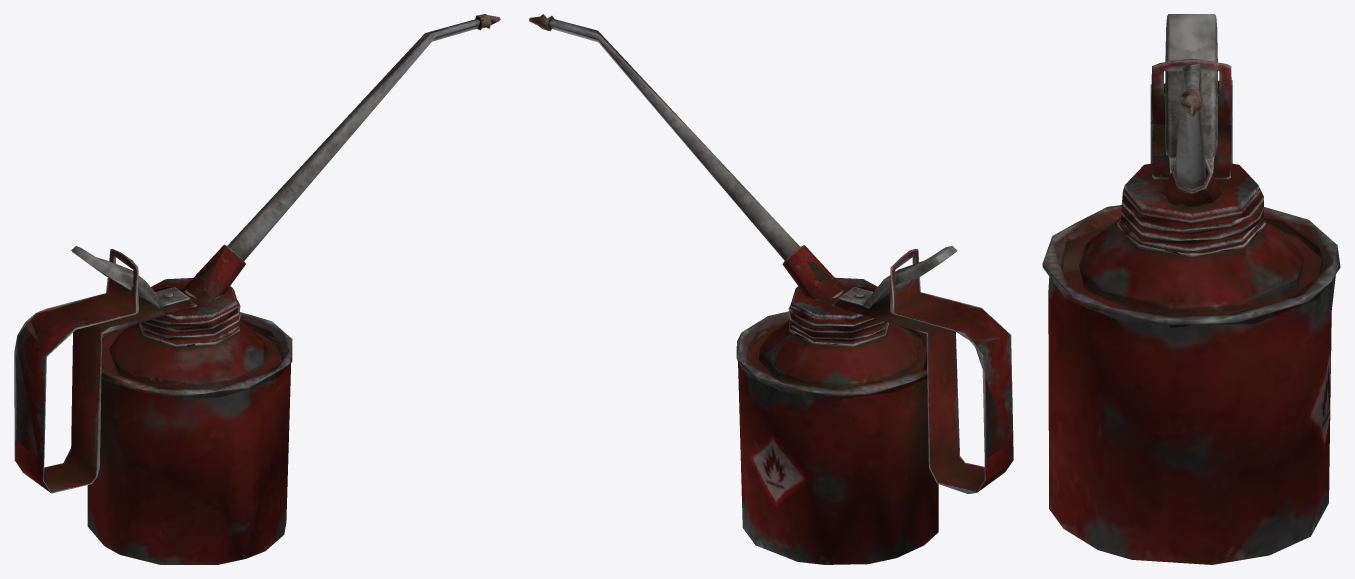
File: small_oil_can_01.glb
The picture shows the model from 3 angles, left to right: view 1: azimuth 30°, elevation 25°; view 2: azimuth 150°, elevation 25°; view 3: azimuth 270°, elevation 25°; orthographic projection. The views are drawn at different scales.
Parts seen in each view (by area): view 1: small_oil_can_01; view 2: small_oil_can_01; view 3: small_oil_can_01.
Part boxes in pixels (x1=…): small_oil_can_01: x1=14, y1=14, x2=500, y2=564; small_oil_can_01: x1=529, y1=14, x2=1013, y2=564; small_oil_can_01: x1=1042, y1=14, x2=1340, y2=564.
Size of the model in its own units: 0.2657 by 0.2367 by 0.1033.
Materials: 1 (1 with a texture image).
